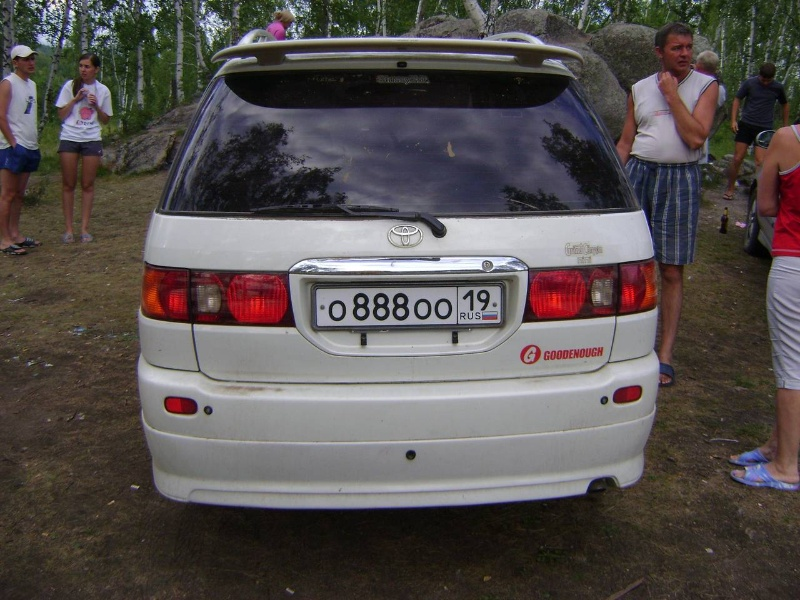car: (137, 34, 661, 507)
person: (616, 21, 717, 385), (730, 121, 800, 491), (54, 53, 114, 241), (724, 62, 790, 201), (1, 44, 43, 256), (267, 9, 293, 39)
plate: (317, 287, 500, 325)
